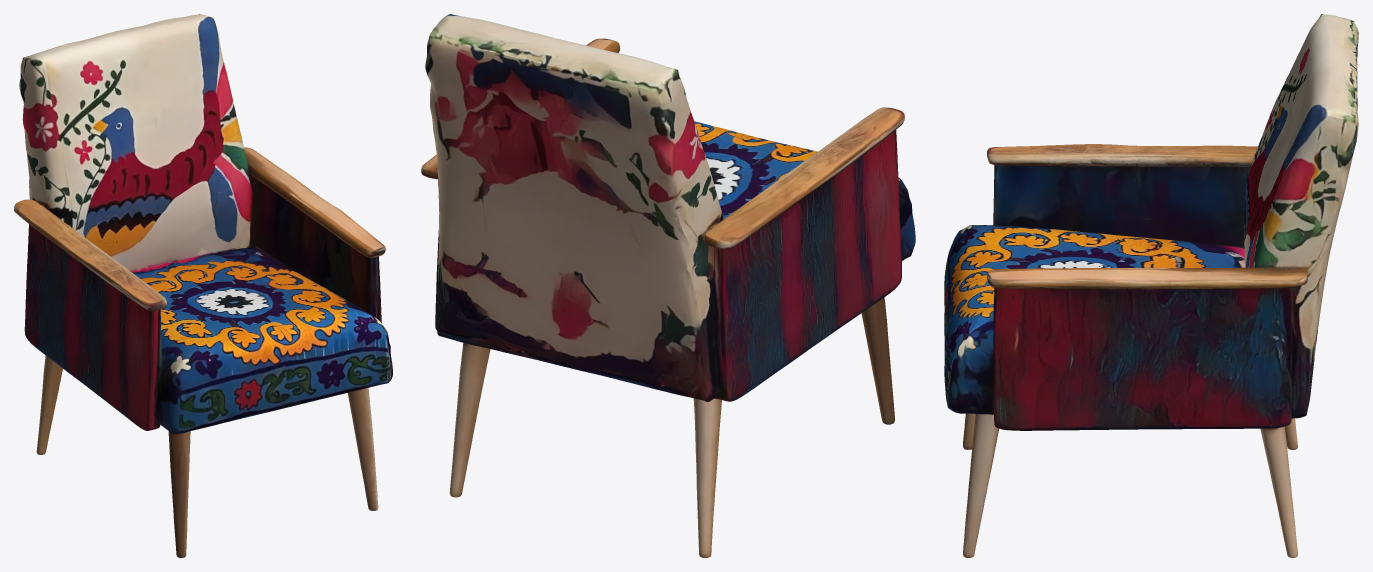
3 views of the same model, side by side, from view 1: azimuth 30°, elevation 25°; view 2: azimuth 150°, elevation 25°; view 3: azimuth 270°, elevation 25° (orthographic). The views are drawn at different scales.
Visible parts, largest first — view 1: model; view 2: model; view 3: model.
Part boxes in pixels (x1=…): model: x1=14, y1=14, x2=392, y2=557; model: x1=421, y1=14, x2=915, y2=557; model: x1=944, y1=14, x2=1358, y2=557.
Size of the model in its own units: 0.5781 by 0.87 by 0.7365.
1 material, 1 textured.
